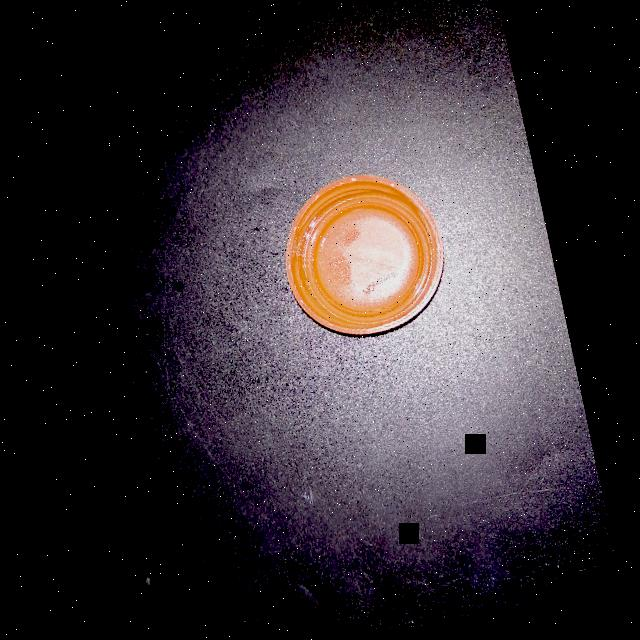plastic_bottle_cap: (269, 158, 459, 349)
